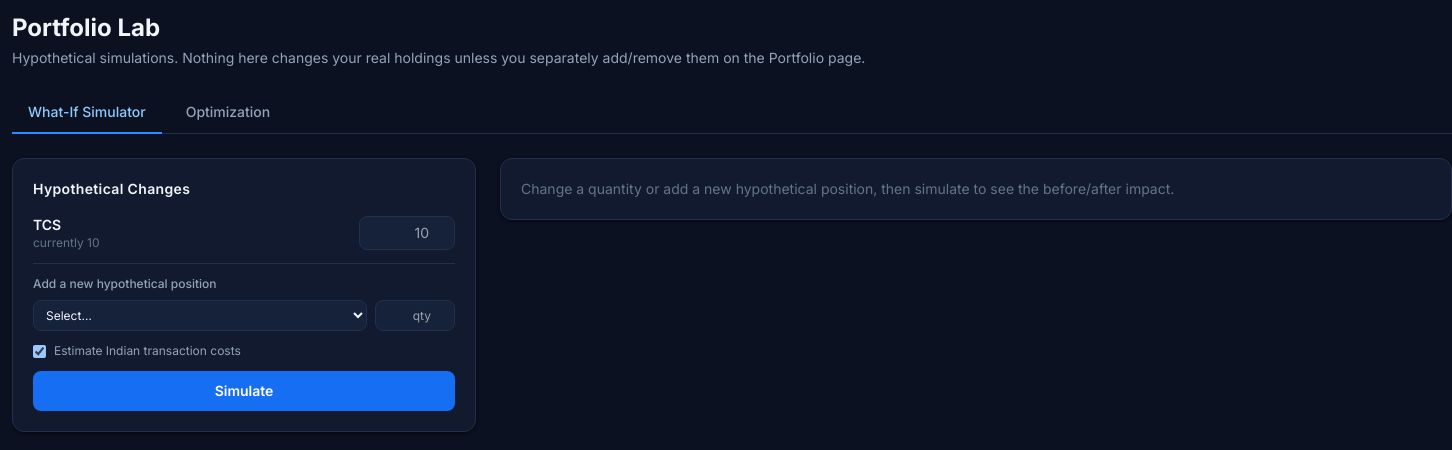
Test case: PortfolioLabPage - Optimization tab › renders an infeasibility note instead of results
Step 1. Click the button "Optimization" → (228, 113), box [170,92,286,134]
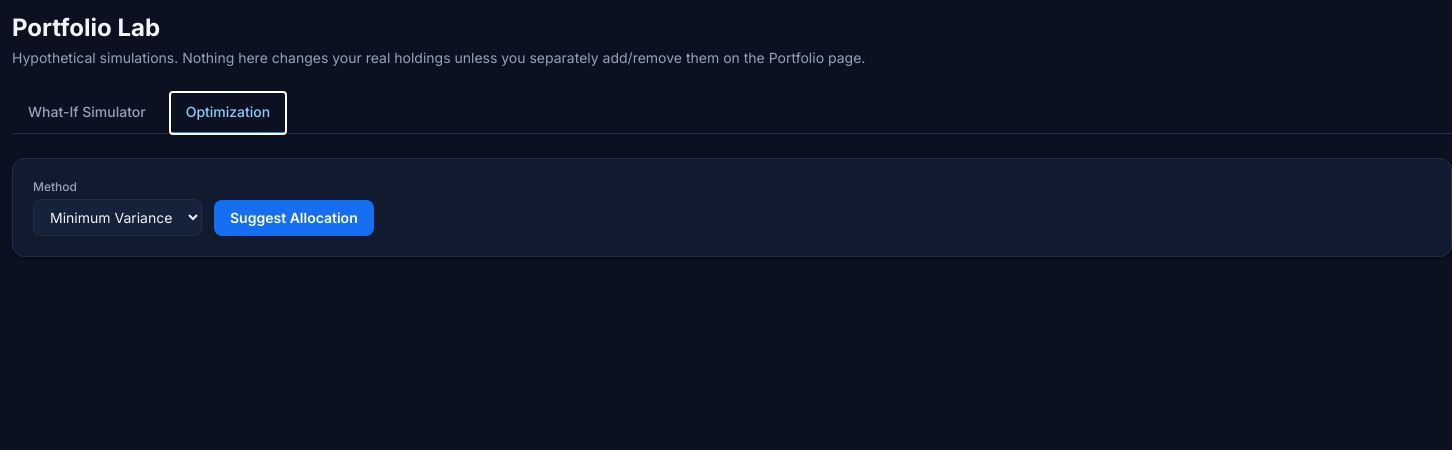
Step 2. Click the button "Suggest Allocation" → (294, 218), box [214,200,374,236]
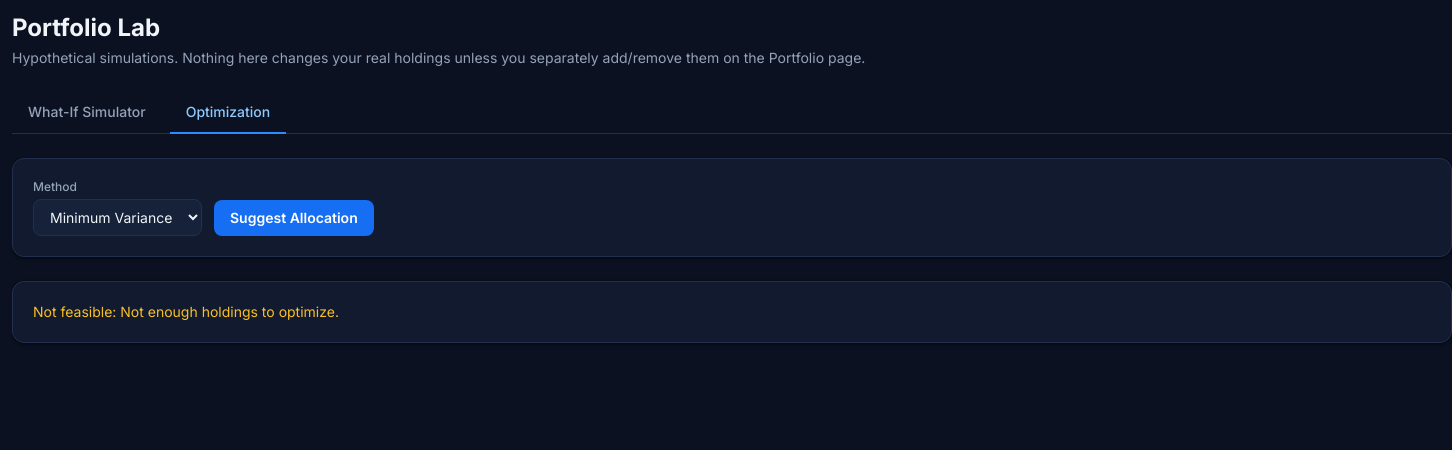
expect the text "Not feasible: Not enough holdings to optimize." is shown: met, box [33,303,339,320]
